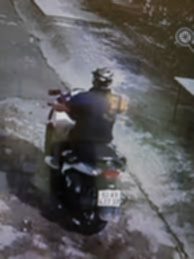Bien-so: (95, 183, 120, 202)
